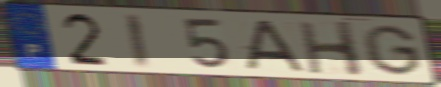2: (60, 12, 111, 68)
5: (180, 16, 232, 71)
A: (240, 19, 310, 74)
G: (360, 23, 425, 78)
H: (295, 20, 367, 78)
I: (121, 12, 153, 70)
